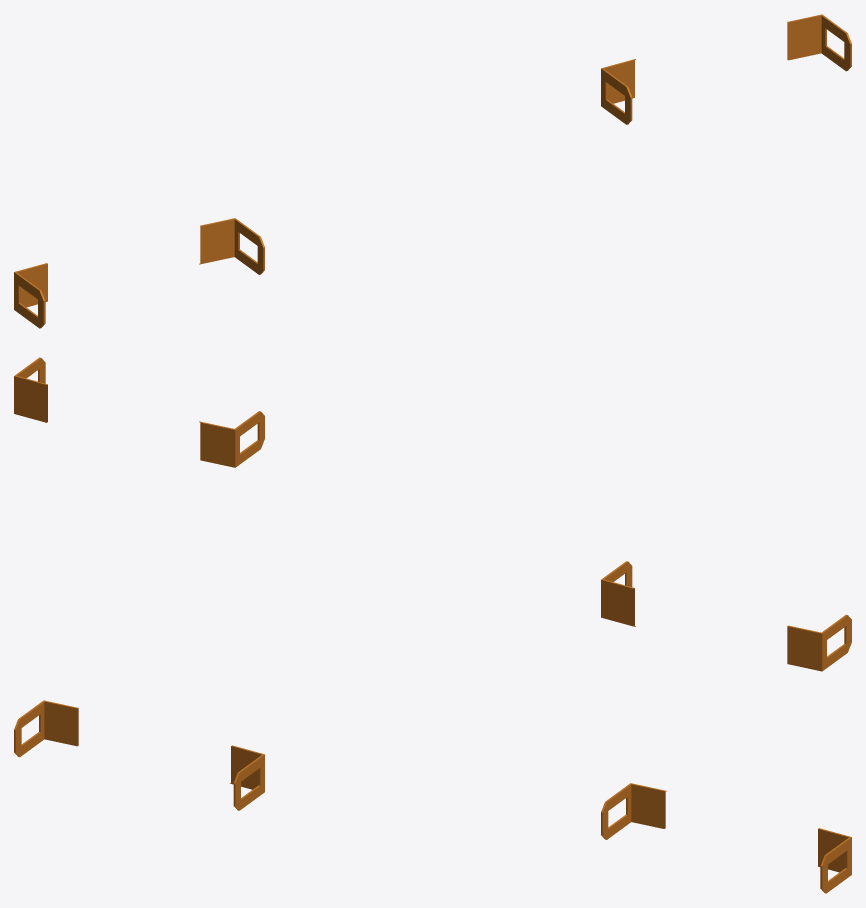
File: brushes.obj
3 views of the same model, one above another, from view 1: azimuth 30°, elevation 25°; view 2: azimuth 150°, elevation 25°; view 3: azimuth 330°, elevation 25° (orthographic).
Visible parts, largest first — view 1: brushes; view 2: brushes; view 3: brushes.
Boxes of the visible parts, left/top/right/bottom form: brushes: left=14, top=14, right=851, bottom=328; brushes: left=14, top=357, right=851, bottom=671; brushes: left=14, top=700, right=851, bottom=893.
Bounding box in the file's own units: 0.0448 × 0.00521 × 0.00295.
